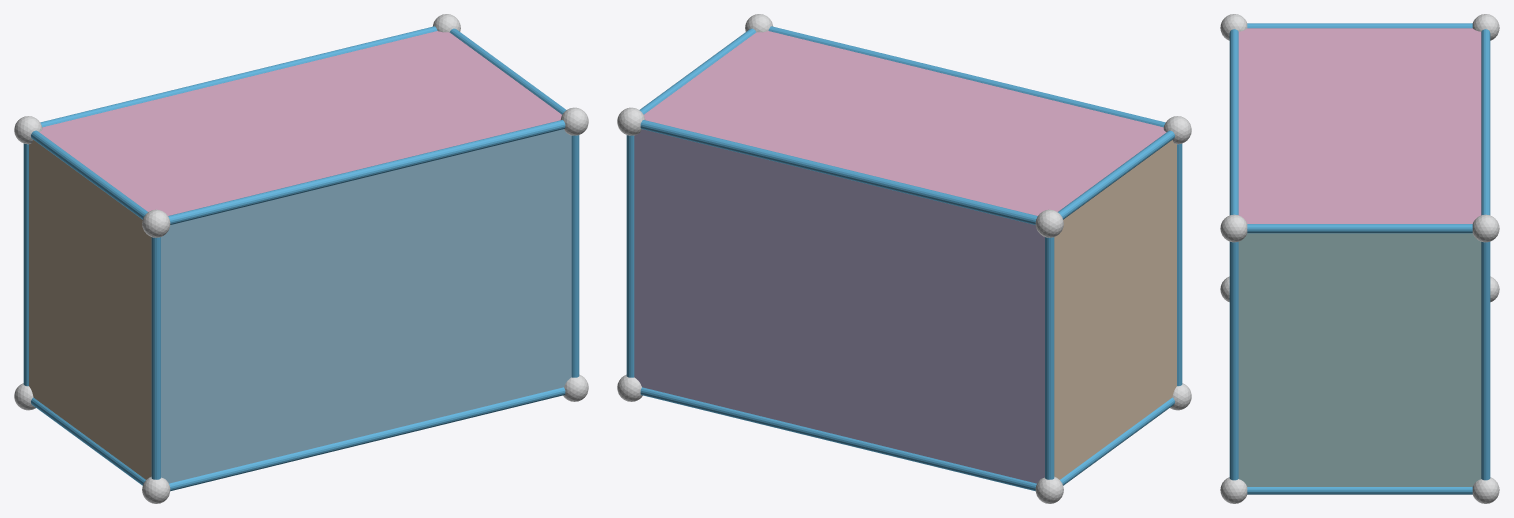
Rendered from 03_balok_rusuk_pastel.glb.
The picture shows the model from 3 angles, left to right: view 1: azimuth 30°, elevation 25°; view 2: azimuth 150°, elevation 25°; view 3: azimuth 270°, elevation 25°; orthographic projection.
Parts seen in each view (by area): view 1: Sisi_Depan, Sisi_Atas, Sisi_Kiri, Rusuk_07, Rusuk_03, Rusuk_12, Rusuk_05, Rusuk_11, Rusuk_09, Rusuk_08, Rusuk_04, Rusuk_06 (+1 smaller); view 2: Sisi_Belakang, Sisi_Atas, Sisi_Kiri, Rusuk_05, Rusuk_01, Rusuk_09, Rusuk_07, Rusuk_10, Rusuk_12, Rusuk_08, Rusuk_04, Rusuk_06 (+1 smaller); view 3: Sisi_Kanan, Sisi_Atas, Rusuk_10, Rusuk_11, Rusuk_06, Rusuk_05, Rusuk_07, Rusuk_02, Rusuk_08, Titik_Sudut_06, Titik_Sudut_07, Titik_Sudut_02 (+3 smaller).
Part boxes in pixels (x1,y1,x2,y2): Sisi_Depan: [161, 129, 571, 483]; Sisi_Atas: [39, 31, 561, 215]; Sisi_Kiri: [29, 140, 151, 479]; Rusuk_07: [168, 120, 565, 224]; Rusuk_03: [169, 387, 565, 491]; Rusuk_12: [151, 237, 160, 479]; Rusuk_05: [40, 26, 437, 127]; Rusuk_11: [571, 135, 579, 377]; Rusuk_09: [23, 143, 28, 386]; Rusuk_08: [31, 130, 147, 219]; Rusuk_04: [31, 397, 145, 485]; Rusuk_06: [449, 28, 566, 114]; Sisi_Belakang: [634, 129, 1044, 483]; Sisi_Atas: [644, 31, 1166, 215]; Sisi_Kiri: [1054, 140, 1176, 479]; Rusuk_05: [640, 120, 1037, 224]; Rusuk_01: [640, 387, 1036, 491]; Rusuk_09: [1045, 237, 1054, 479]; Rusuk_07: [768, 26, 1165, 127]; Rusuk_10: [626, 135, 634, 377]; Rusuk_12: [1177, 143, 1182, 386]; Rusuk_08: [1058, 130, 1174, 219]; Rusuk_04: [1060, 397, 1174, 485]; Rusuk_06: [639, 28, 756, 114]; Sisi_Kanan: [1238, 233, 1481, 486]; Sisi_Atas: [1238, 28, 1481, 223]; Rusuk_10: [1481, 242, 1490, 480]; Rusuk_11: [1229, 242, 1238, 480]; Rusuk_06: [1247, 224, 1472, 233]; Rusuk_05: [1481, 29, 1490, 214]; Rusuk_07: [1229, 29, 1238, 214]; Rusuk_02: [1247, 487, 1472, 494]; Rusuk_08: [1247, 23, 1472, 28]; Titik_Sudut_06: [1472, 214, 1499, 242]; Titik_Sudut_07: [1220, 214, 1247, 242]; Titik_Sudut_02: [1472, 477, 1499, 503].
Size of the model in its own units: 2.7 by 1.7 by 1.5.
